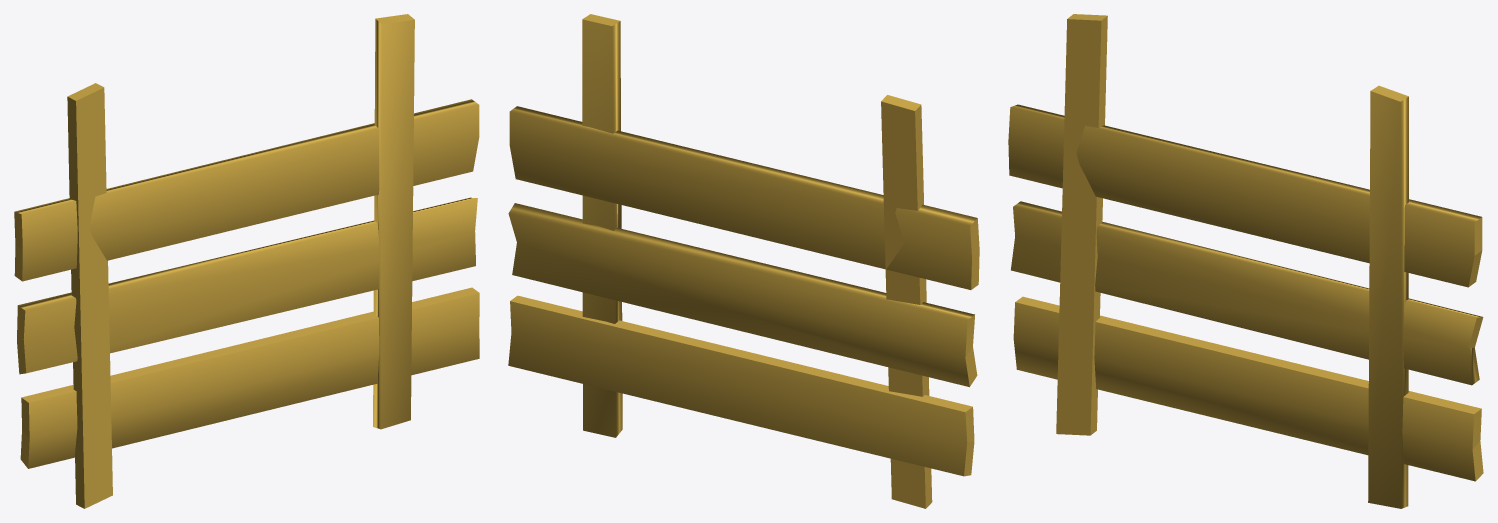
Rendered from fence.dae.
3 views of the same model, side by side, from view 1: azimuth 30°, elevation 25°; view 2: azimuth 150°, elevation 25°; view 3: azimuth 330°, elevation 25° (orthographic).
Parts seen in each view (by area): view 1: Cube; view 2: Cube; view 3: Cube.
Boxes of the visible parts, x1,y1,x2,y2 form: Cube: [14, 14, 479, 508]; Cube: [508, 14, 979, 508]; Cube: [1008, 14, 1483, 508].
Size of the model in its own units: 2 by 0.15 by 1.7.
